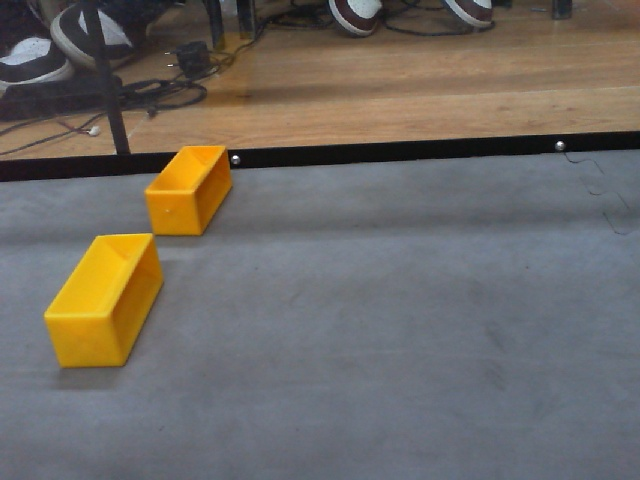YellowSample: (42, 230, 170, 376), (143, 141, 234, 243)
